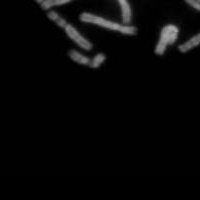chromosome: (48, 10, 92, 49), (79, 12, 136, 35), (178, 0, 200, 53), (84, 0, 131, 24), (155, 23, 177, 54), (69, 50, 104, 68), (40, 0, 91, 8), (185, 0, 200, 11), (34, 0, 51, 4), (196, 0, 200, 3)
